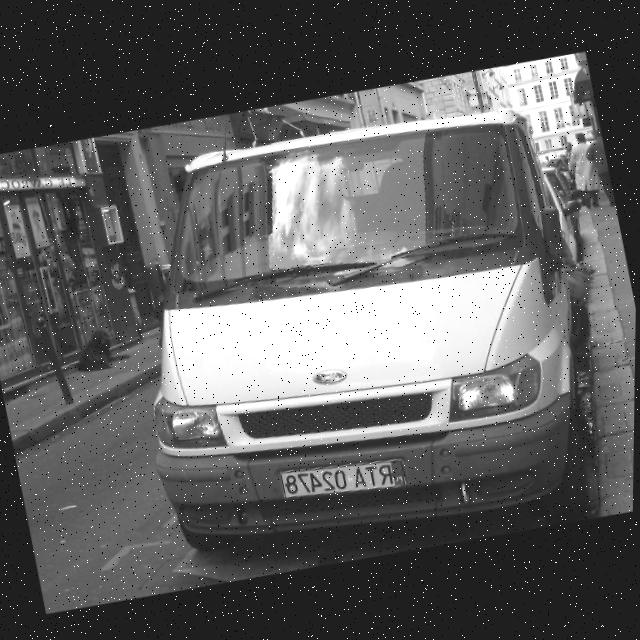license-plates: (281, 460, 404, 498)
